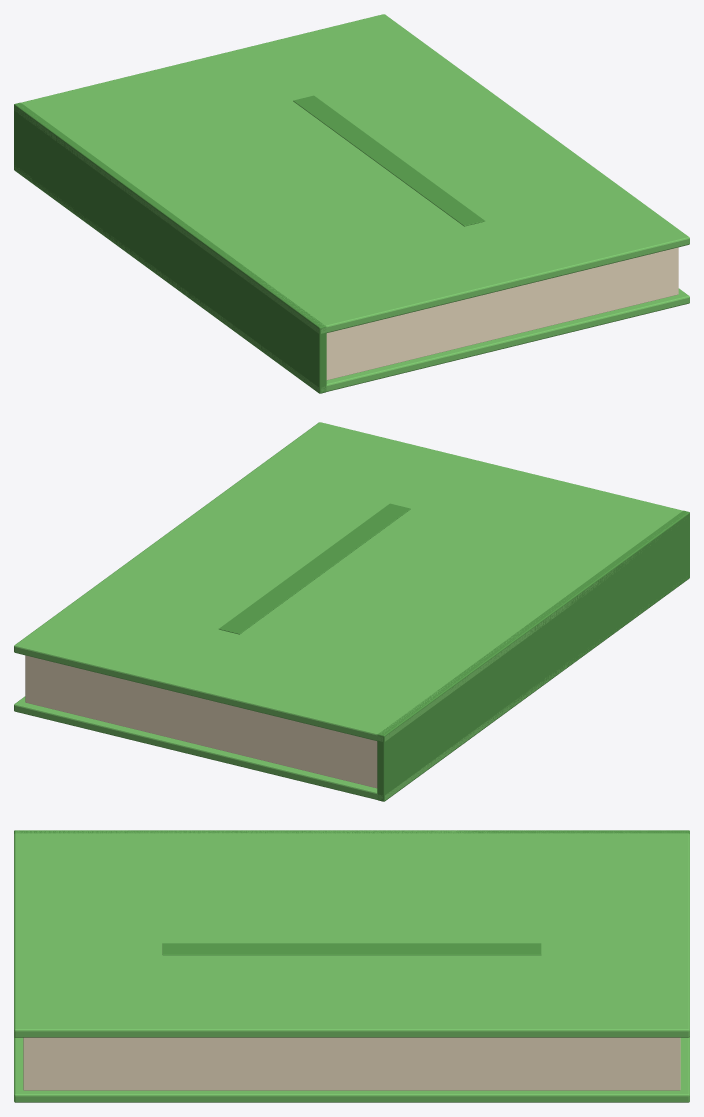
File: prop_book.glb
3 views of the same model, one above another, from view 1: azimuth 30°, elevation 25°; view 2: azimuth 150°, elevation 25°; view 3: azimuth 270°, elevation 25° (orthographic). The views are drawn at different scales.
Visible parts, largest first — view 1: PropBook; view 2: PropBook; view 3: PropBook.
Part boxes in pixels (box(x1,y1,x2,y2)): PropBook: box(14, 14, 689, 393); PropBook: box(14, 422, 689, 801); PropBook: box(14, 830, 689, 1102).
Size of the model in its own units: 3.5 by 0.608 by 5.
